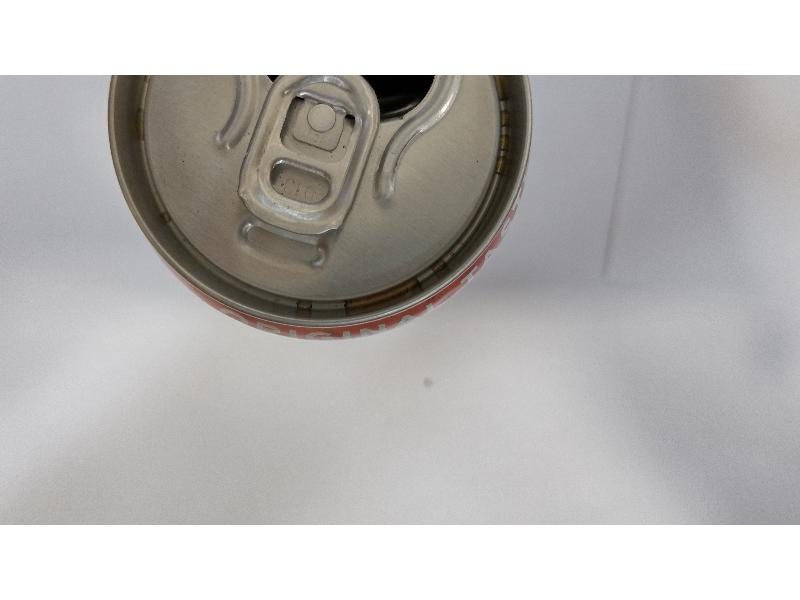can: (97, 71, 547, 355)
